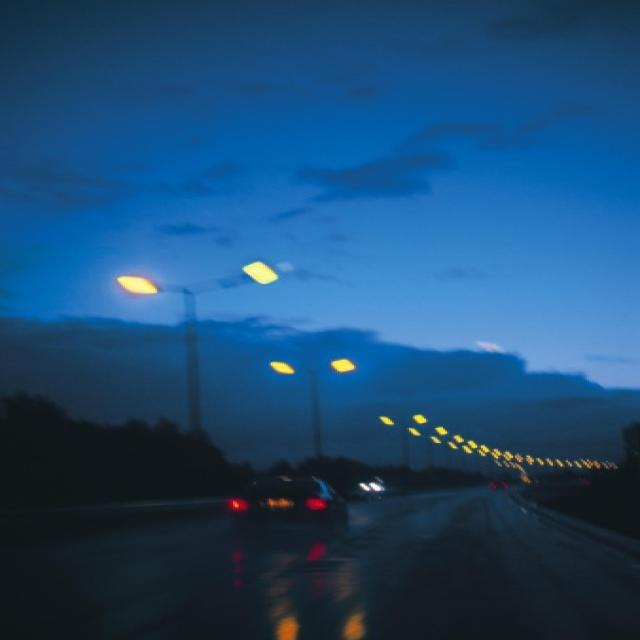Car: (186, 468, 390, 554)
